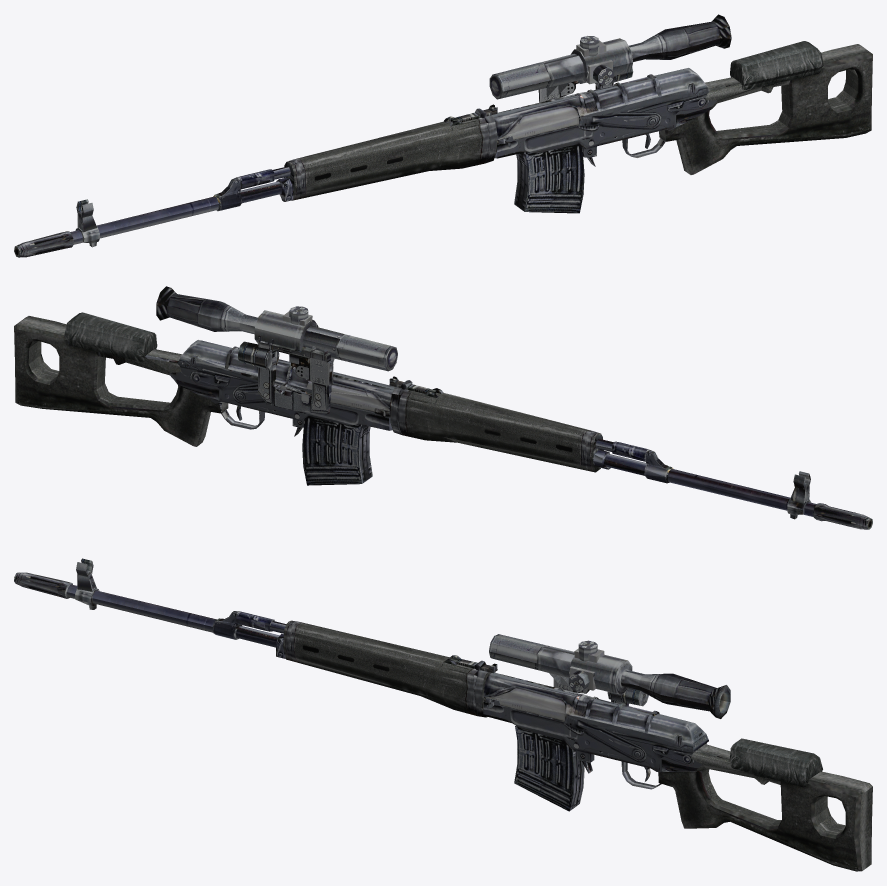
File: w_svd.obj
3 views of the same model, one above another, from view 1: azimuth 30°, elevation 25°; view 2: azimuth 150°, elevation 25°; view 3: azimuth 330°, elevation 25° (orthographic).
Parts seen in each view (by area): view 1: Svd; view 2: Svd; view 3: Svd.
Boxes of the visible parts, x1,y1,x2,y2 form: Svd: (14,14,872,257); Svd: (14,286,872,529); Svd: (14,558,872,871).
Size of the model in its own units: 18.24 by 3.42 by 1.06.
